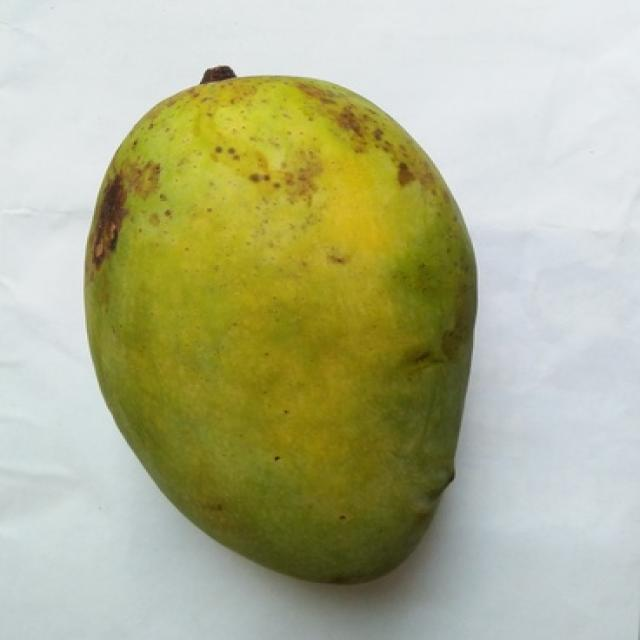Mango: (85, 68, 475, 580)
